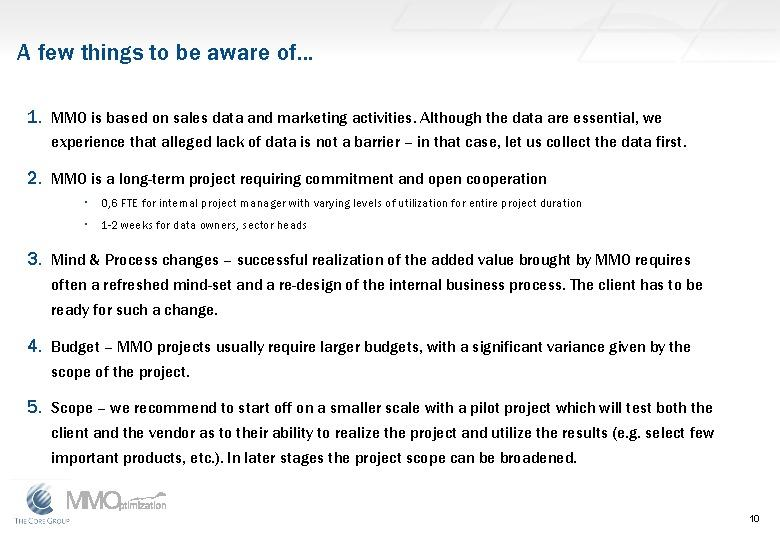paragraph: (13, 92, 752, 480)
title: (13, 27, 323, 80)
